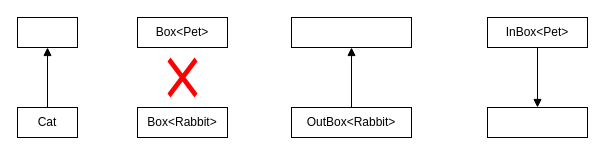
Image size: 605x155. Some labels were removed from this diagram. Each missing label, with the centre of its shape:
InBox<Rabbit>: the point at 537,122
OutBox<Pet>: the point at 351,32
Pet: the point at 47,32
